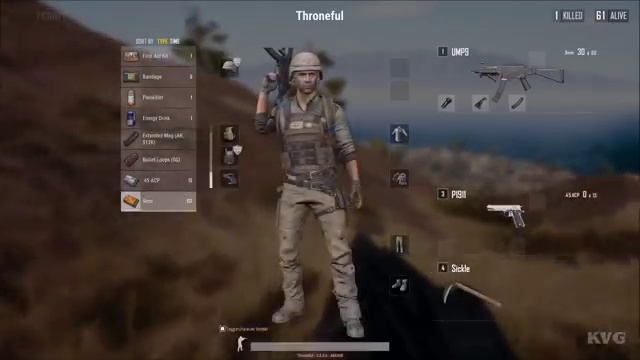Player: (255, 50, 380, 318)
